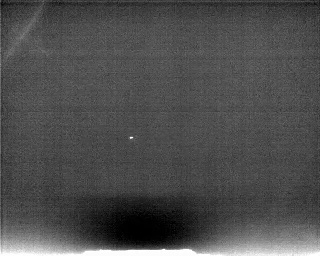BIRD: (126, 133, 136, 144)
